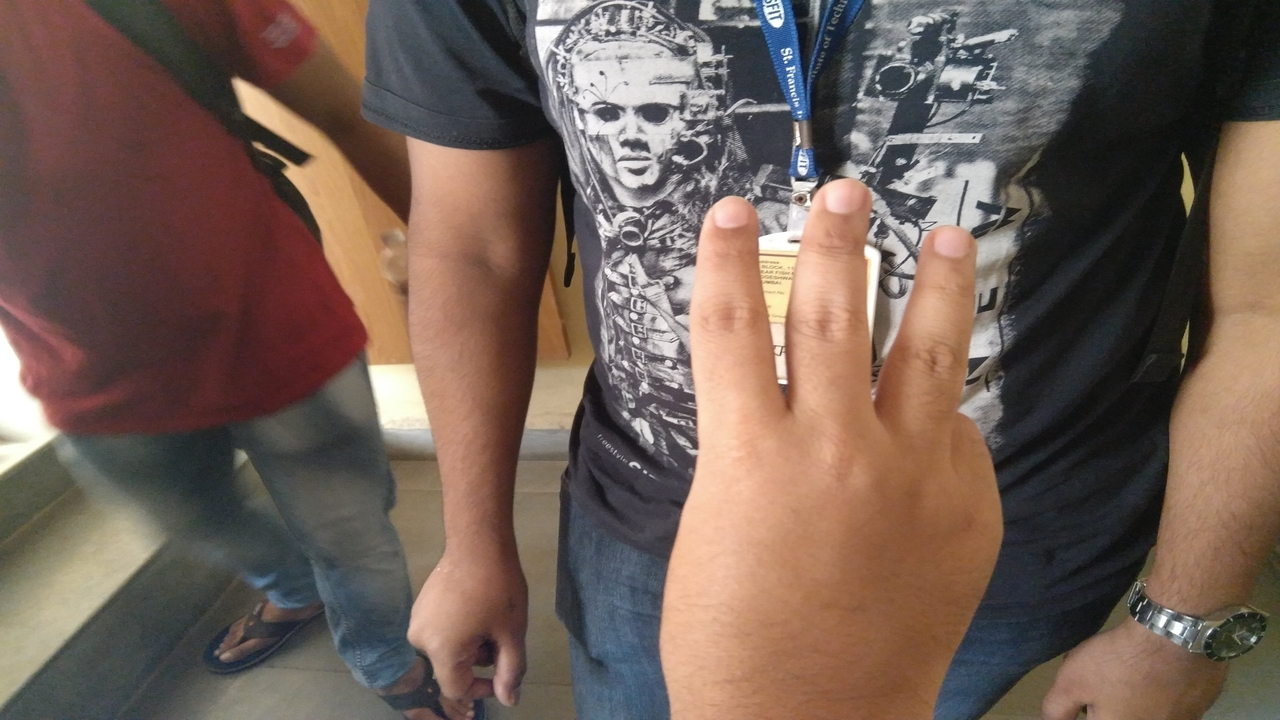fingertip: (808, 166, 880, 238), (702, 192, 766, 250), (922, 218, 982, 278)
